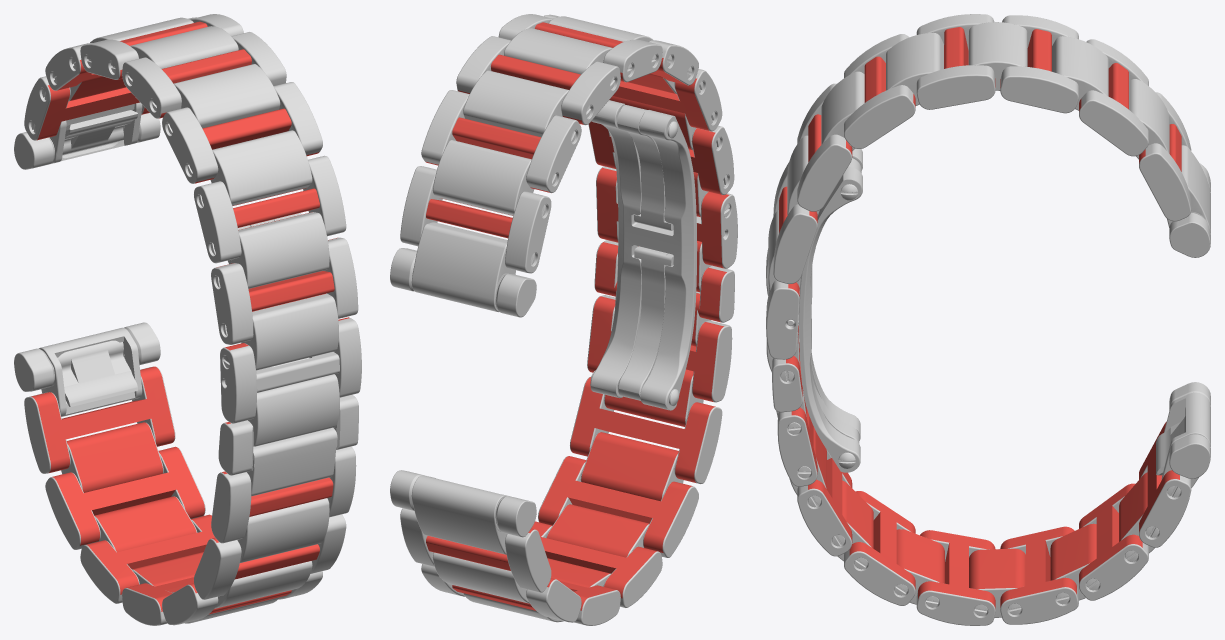
Rendered from Tank_S_Bracelet.fbx.
3 views of the same model, side by side, from view 1: azimuth 30°, elevation 25°; view 2: azimuth 150°, elevation 25°; view 3: azimuth 270°, elevation 25° (orthographic).
Visible parts, largest first — view 1: BRep_1.136, BRep_1.144; view 2: BRep_1.136, BRep_1.144; view 3: BRep_1.136, BRep_1.144.
Part boxes in pixels (x1,y1,x2,y2): BRep_1.136: (14,14,361,625); BRep_1.144: (31,55,301,385); BRep_1.136: (390,14,737,625); BRep_1.144: (530,54,729,406); BRep_1.136: (766,14,1210,625); BRep_1.144: (780,184,1180,615).
Bounding box in the file's own units: 160 × 670 × 485.
